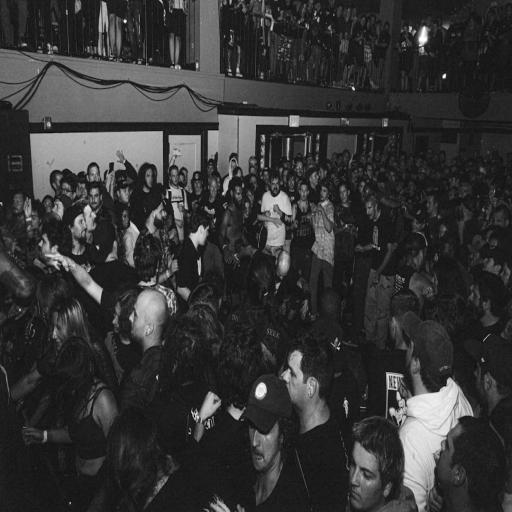face: (350, 442, 389, 511), (436, 425, 462, 492), (249, 422, 282, 472), (281, 351, 307, 407), (129, 294, 146, 342), (51, 313, 66, 352), (39, 234, 56, 265), (72, 215, 86, 243), (83, 205, 96, 232), (154, 203, 166, 228), (89, 188, 101, 211), (118, 187, 131, 204)
